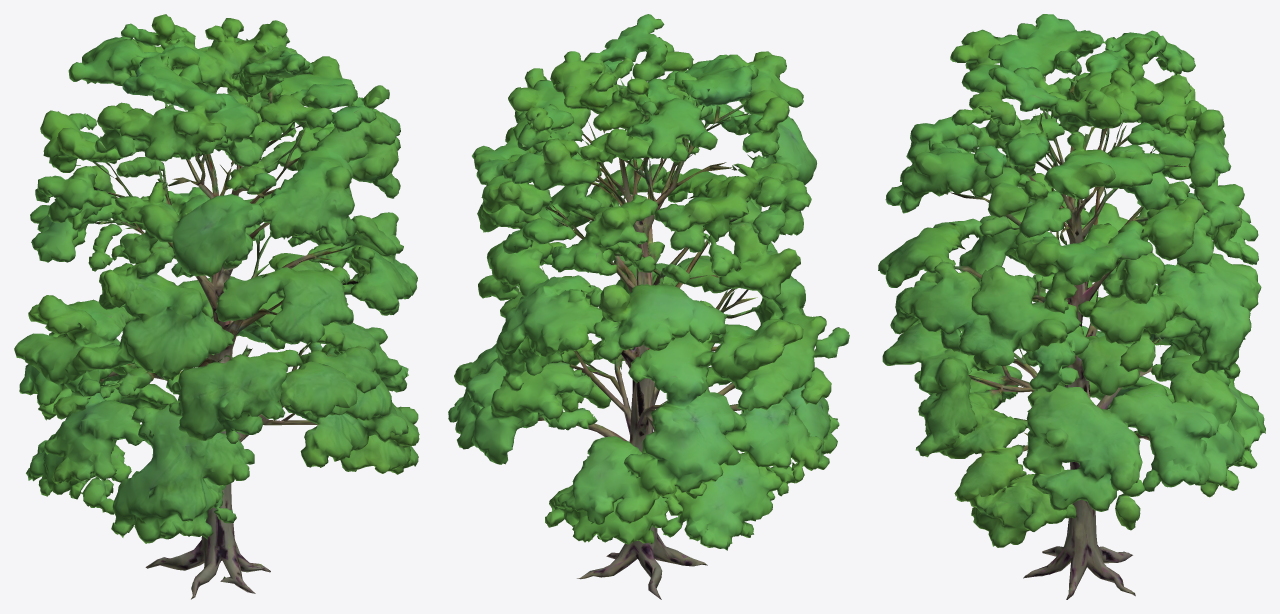
File: rounded-sugar-maple-r2_semantic.glb
The picture shows the model from 3 angles, left to right: view 1: azimuth 30°, elevation 25°; view 2: azimuth 150°, elevation 25°; view 3: azimuth 270°, elevation 25°; orthographic projection. The views are drawn at different scales.
Parts seen in each view (by area): view 1: Mesh_0.001; view 2: Mesh_0.001; view 3: Mesh_0.001.
Part boxes in pixels (bbox=[...]): Mesh_0.001: bbox=[14, 14, 419, 599]; Mesh_0.001: bbox=[448, 14, 849, 599]; Mesh_0.001: bbox=[878, 14, 1265, 599].
Bounding box in the file's own units: 10.29 × 15 × 9.97.
Materials: 2 (2 with a texture image).
